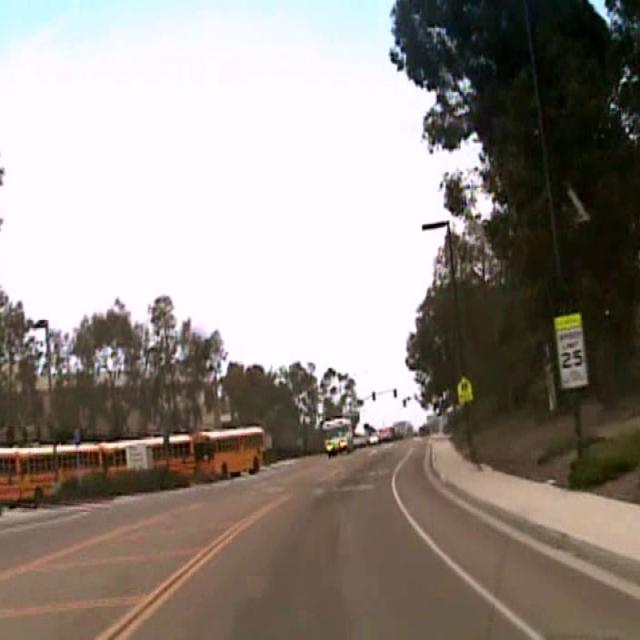speedLimit25: (554, 311, 588, 389)
